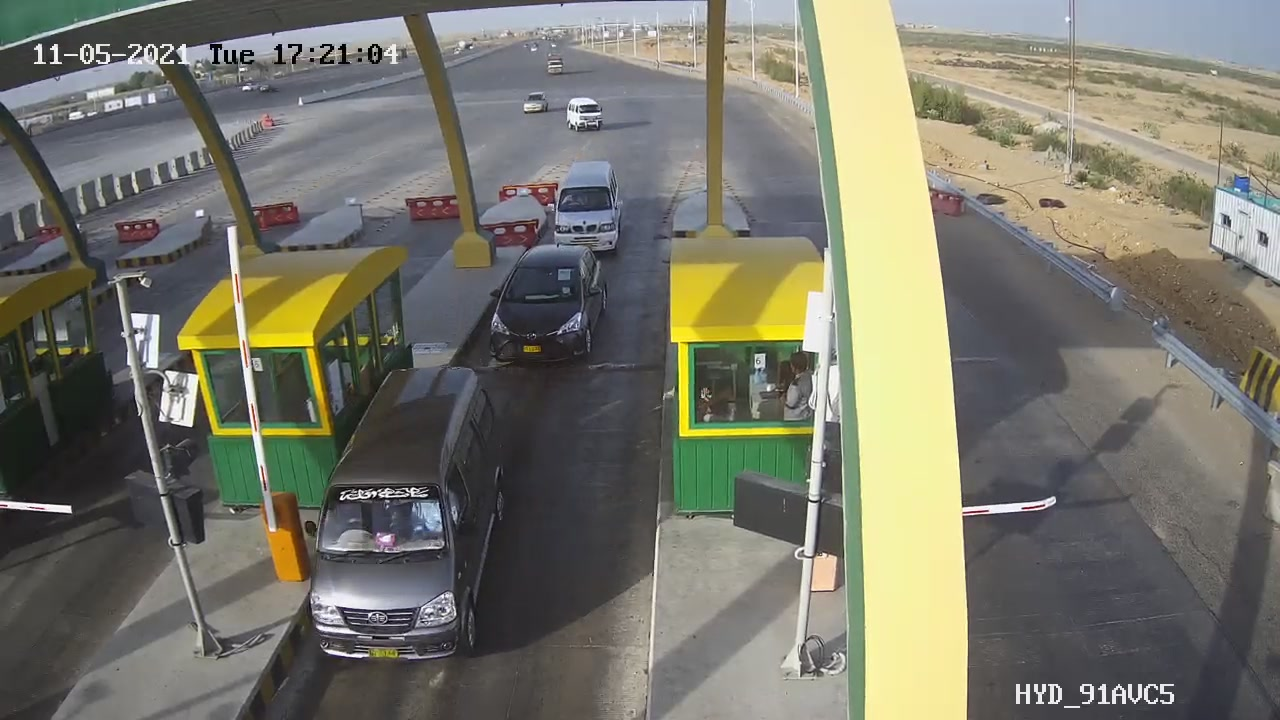F1: (483, 231, 627, 382)
